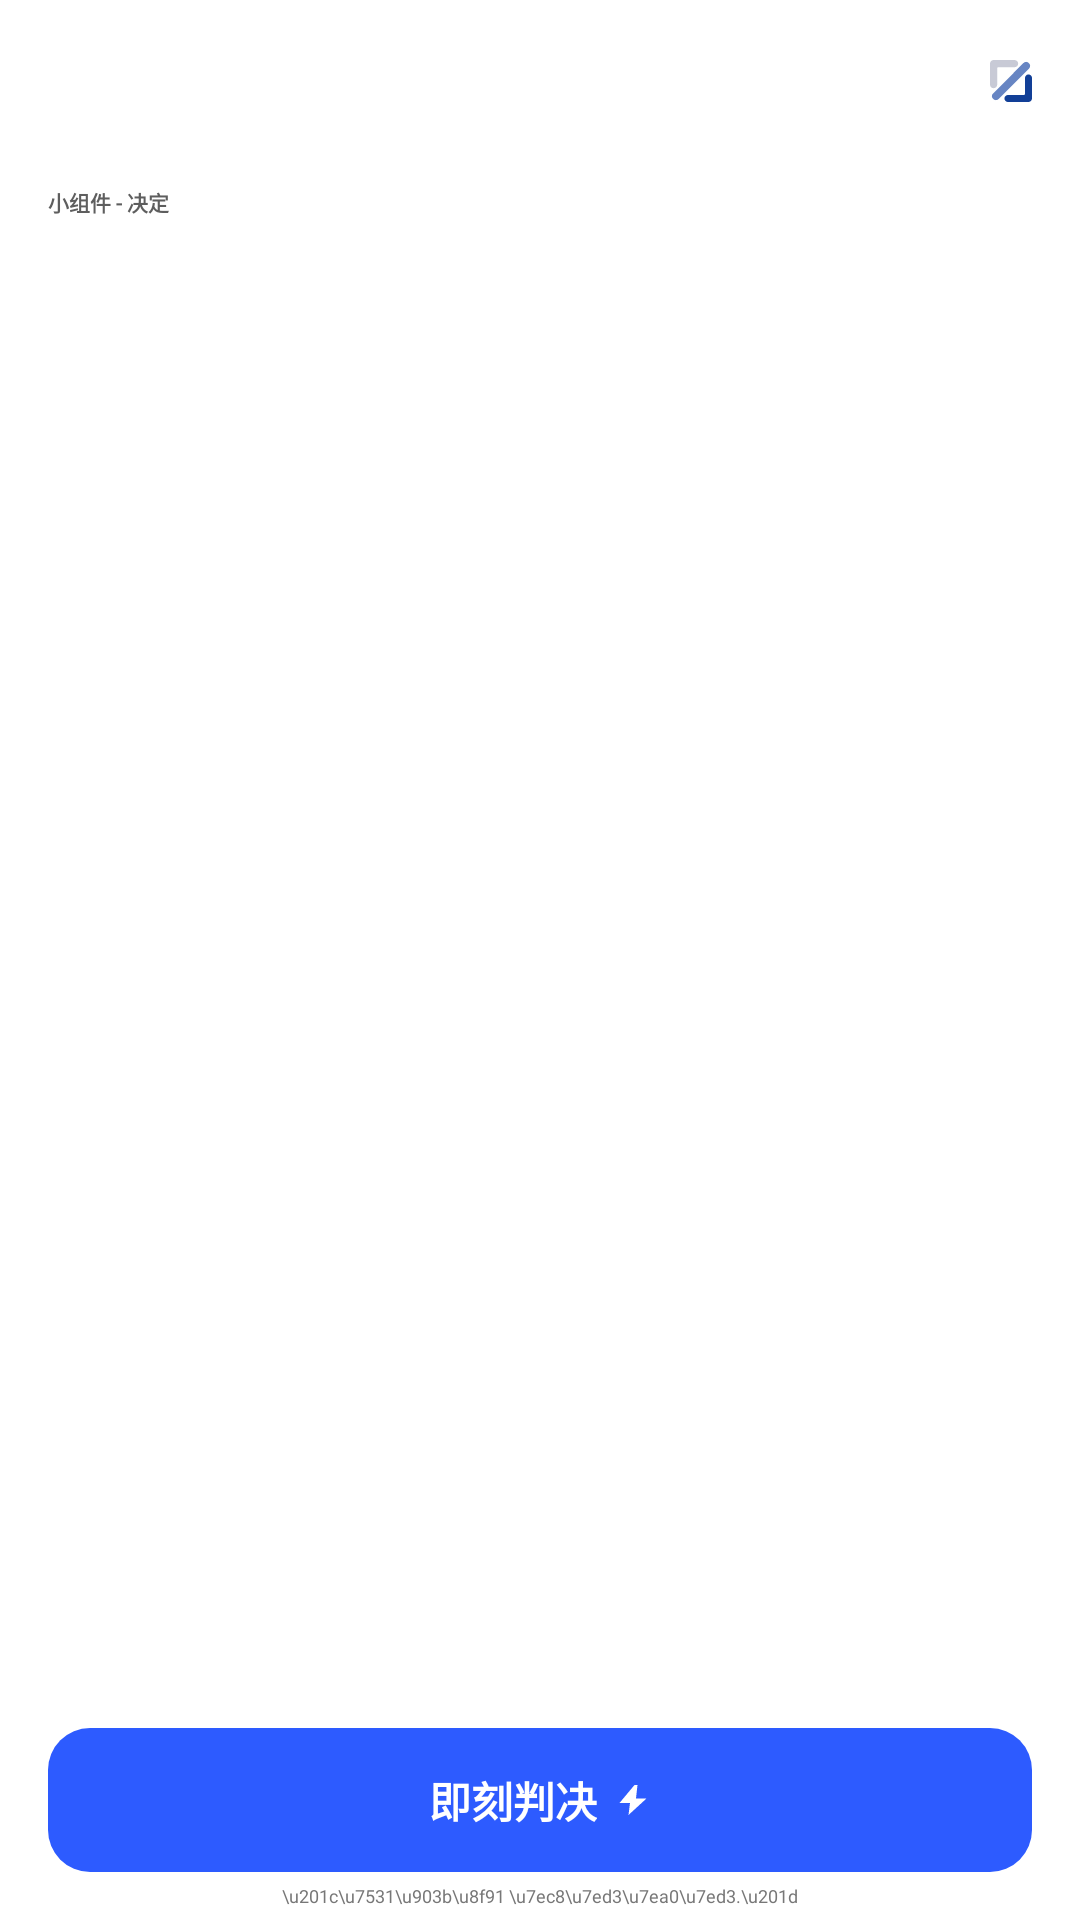

Locate icon controls on the screen. Image size 1080 x 1920, boxes as bbox=(x1, y1, x2, y2).
widget lightning: bbox=(619, 1785, 646, 1815)
